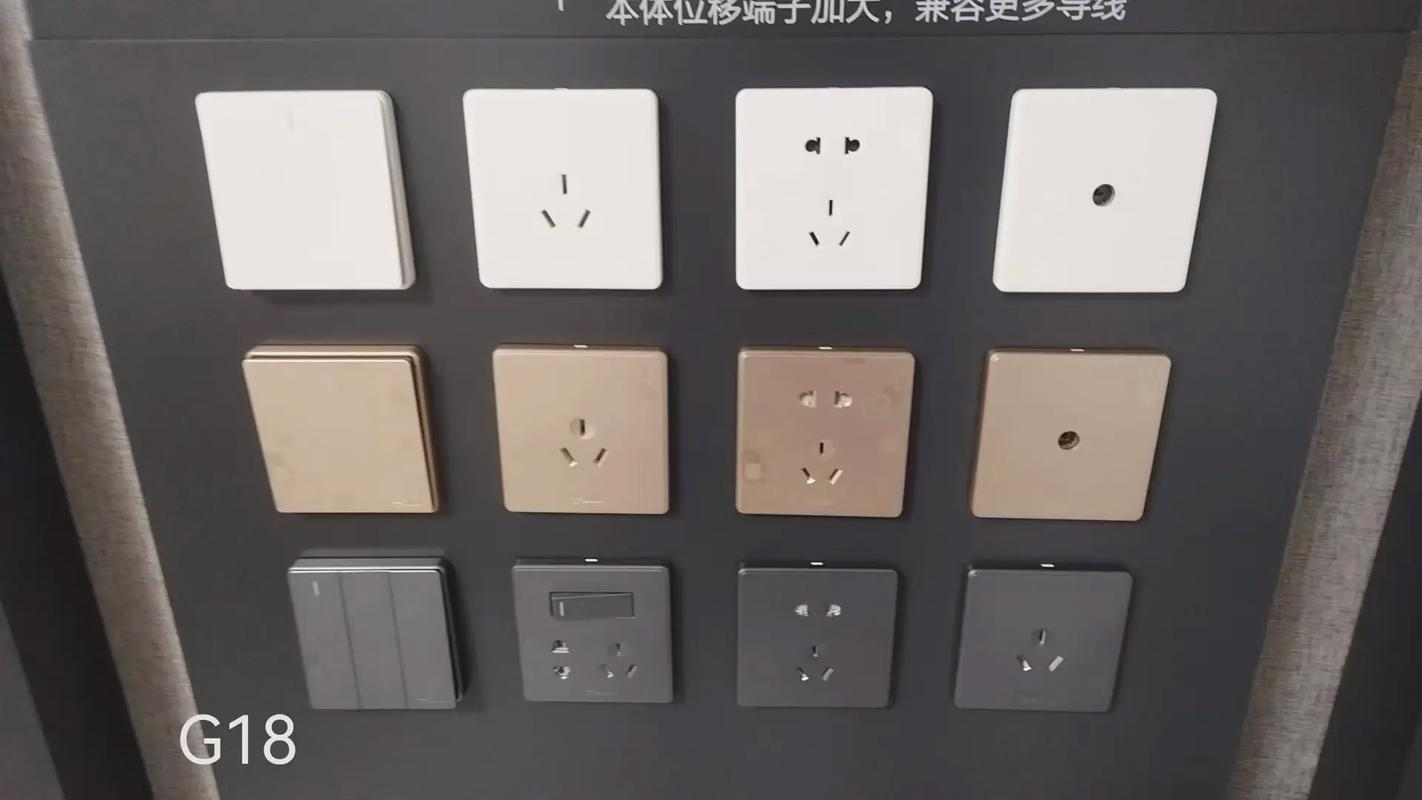button: (193, 87, 418, 295), (242, 346, 443, 517), (287, 553, 471, 711)
